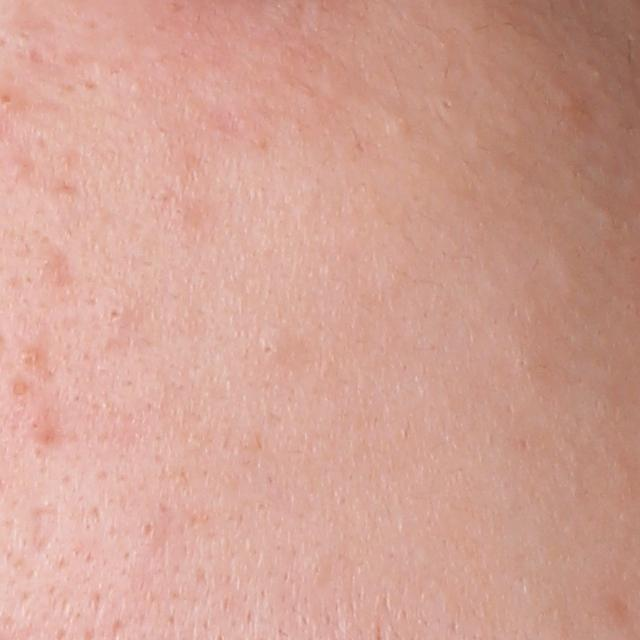atrophic_scar: (32, 499, 65, 563)
comedo: (380, 110, 417, 136), (4, 376, 34, 405), (253, 337, 284, 361), (13, 345, 42, 370), (103, 302, 126, 326), (7, 156, 33, 177), (139, 518, 157, 538)
